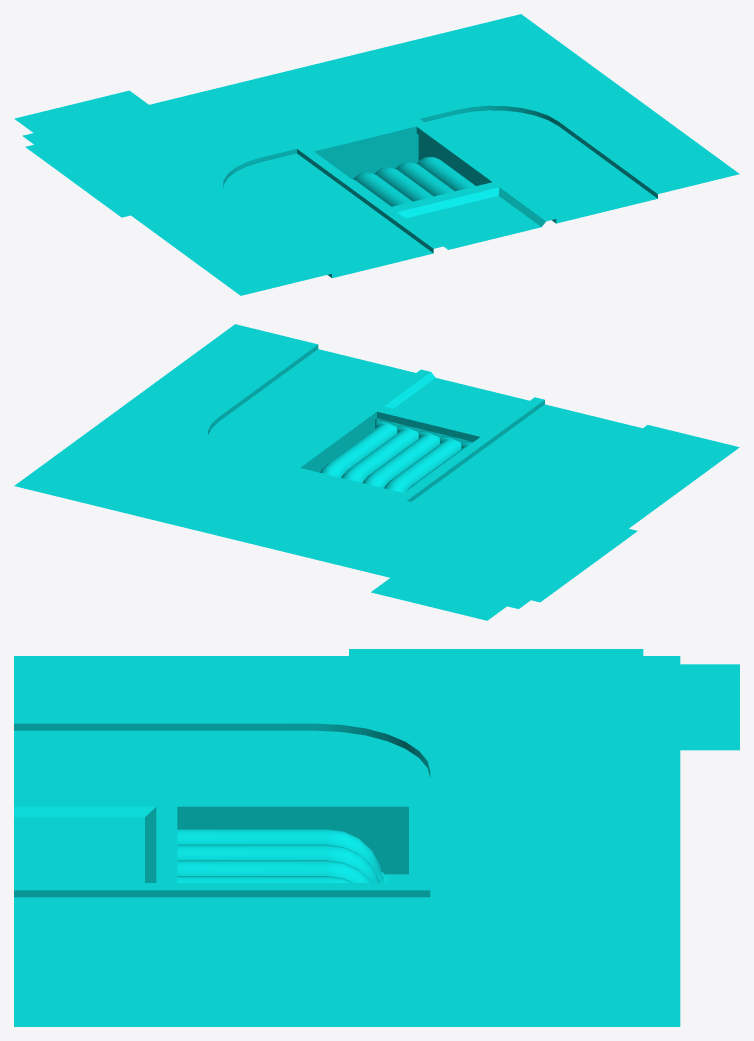
File: Cell2FloorMain.fbx
3 views of the same model, one above another, from view 1: azimuth 30°, elevation 25°; view 2: azimuth 150°, elevation 25°; view 3: azimuth 270°, elevation 25° (orthographic). The views are drawn at different scales.
Visible parts, largest first — view 1: Cell2FloorMain; view 2: Cell2FloorMain; view 3: Cell2FloorMain.
Part boxes in pixels (bbox=[...]): Cell2FloorMain: bbox=[14, 14, 739, 295]; Cell2FloorMain: bbox=[14, 324, 739, 620]; Cell2FloorMain: bbox=[14, 649, 739, 1026].
Size of the model in its own units: 554 by 49 by 450.
